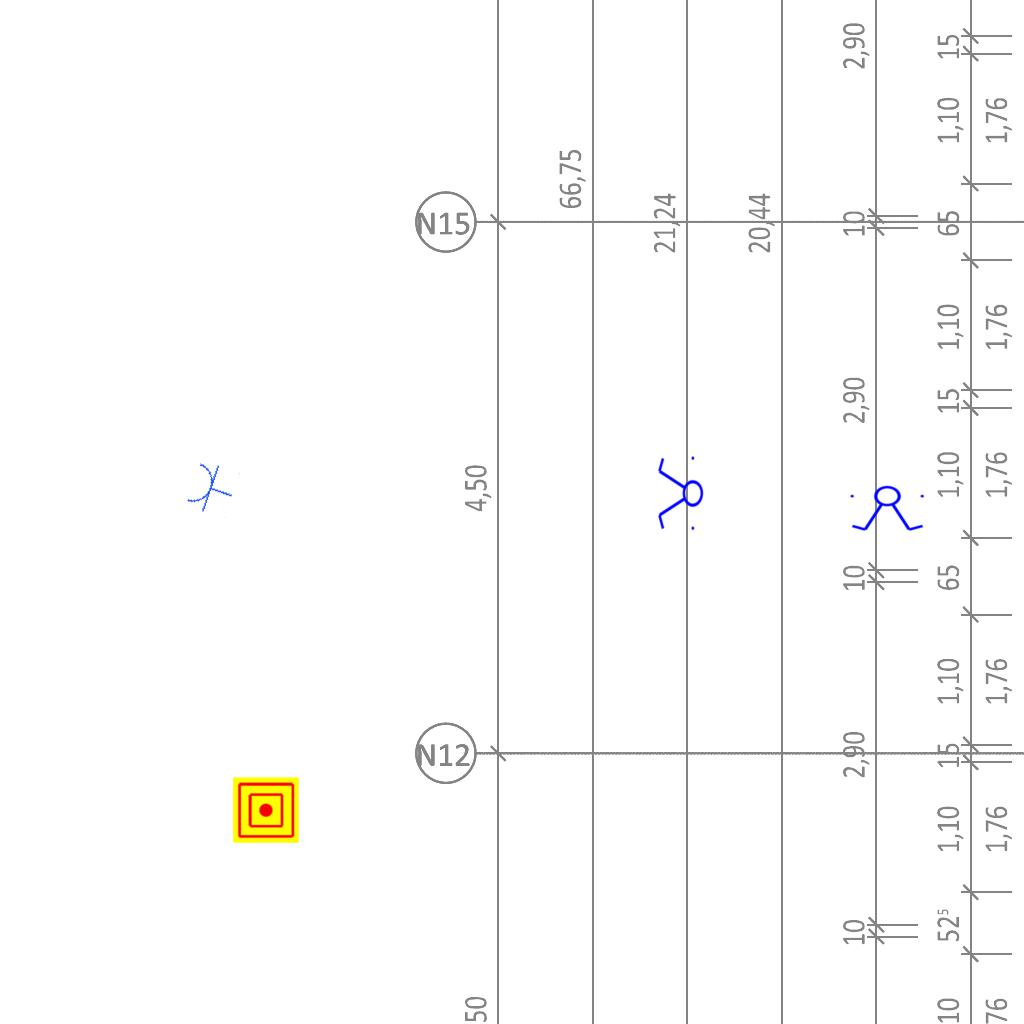NAM-Nichtautomatischer_Melder: (233, 777, 299, 843)
Schukosteckdose_einfach: (183, 457, 241, 520)
Serienschalter: (656, 452, 704, 536), (846, 485, 930, 533)
